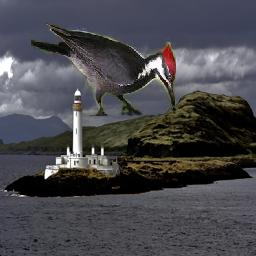Woodpecker: (32, 24, 177, 117)
